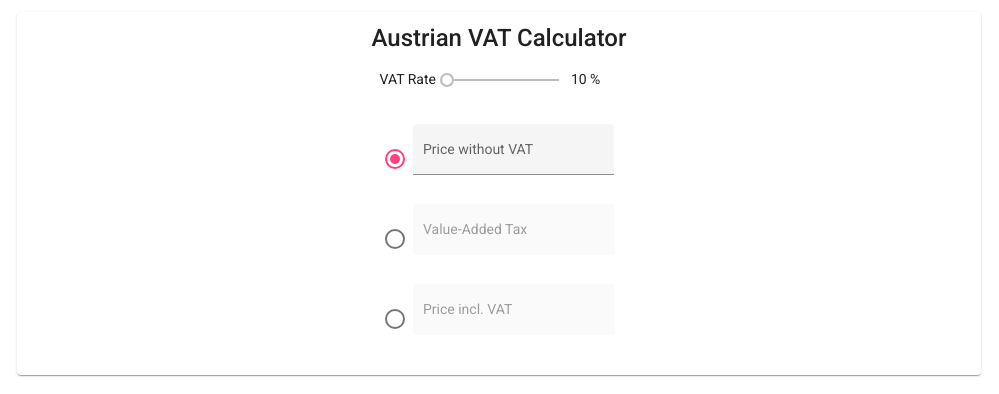
Vat Component Test › gross input has the correct value
The image size is (999, 394).
Type "100" into the field with id "net" at [513, 157], box [423,149,603,165]
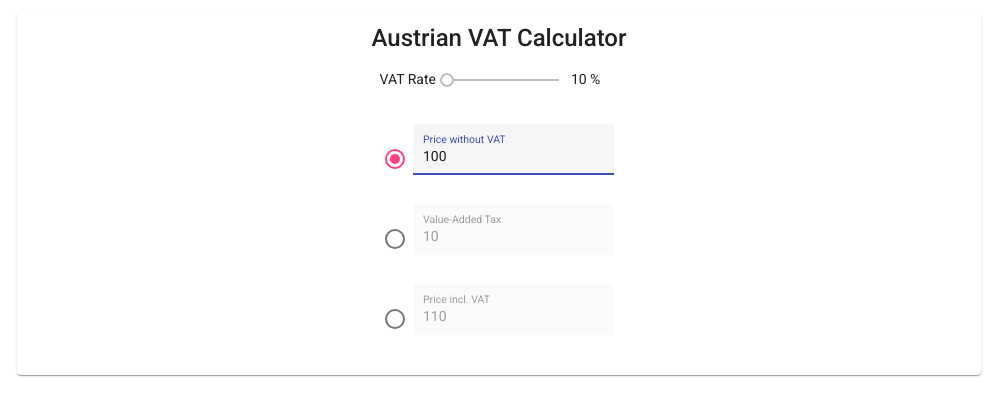
Now the field with id "gross" holds "110", box [423,309,603,325]
